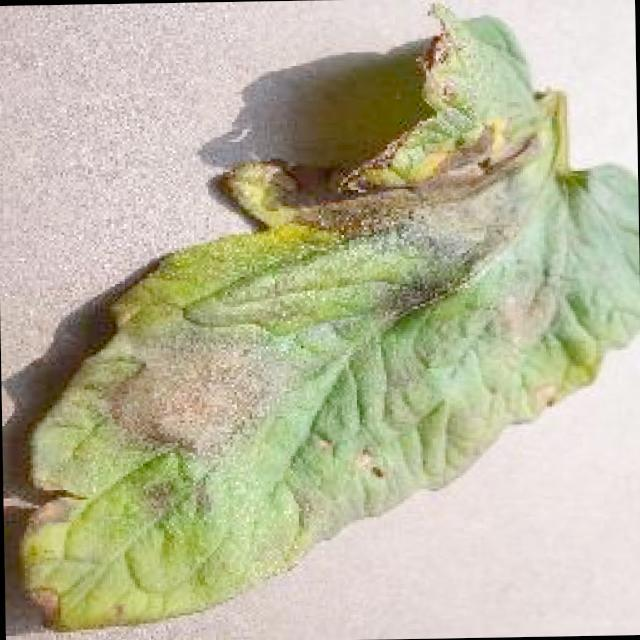Tomato late blight leaf: (9, 0, 640, 633)
